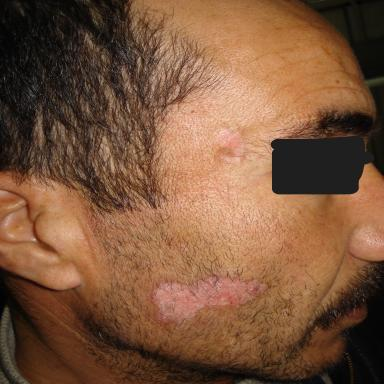Lupus-Erythematosus-Chronicus-Discoides: (151, 276, 266, 322), (215, 128, 244, 163)
